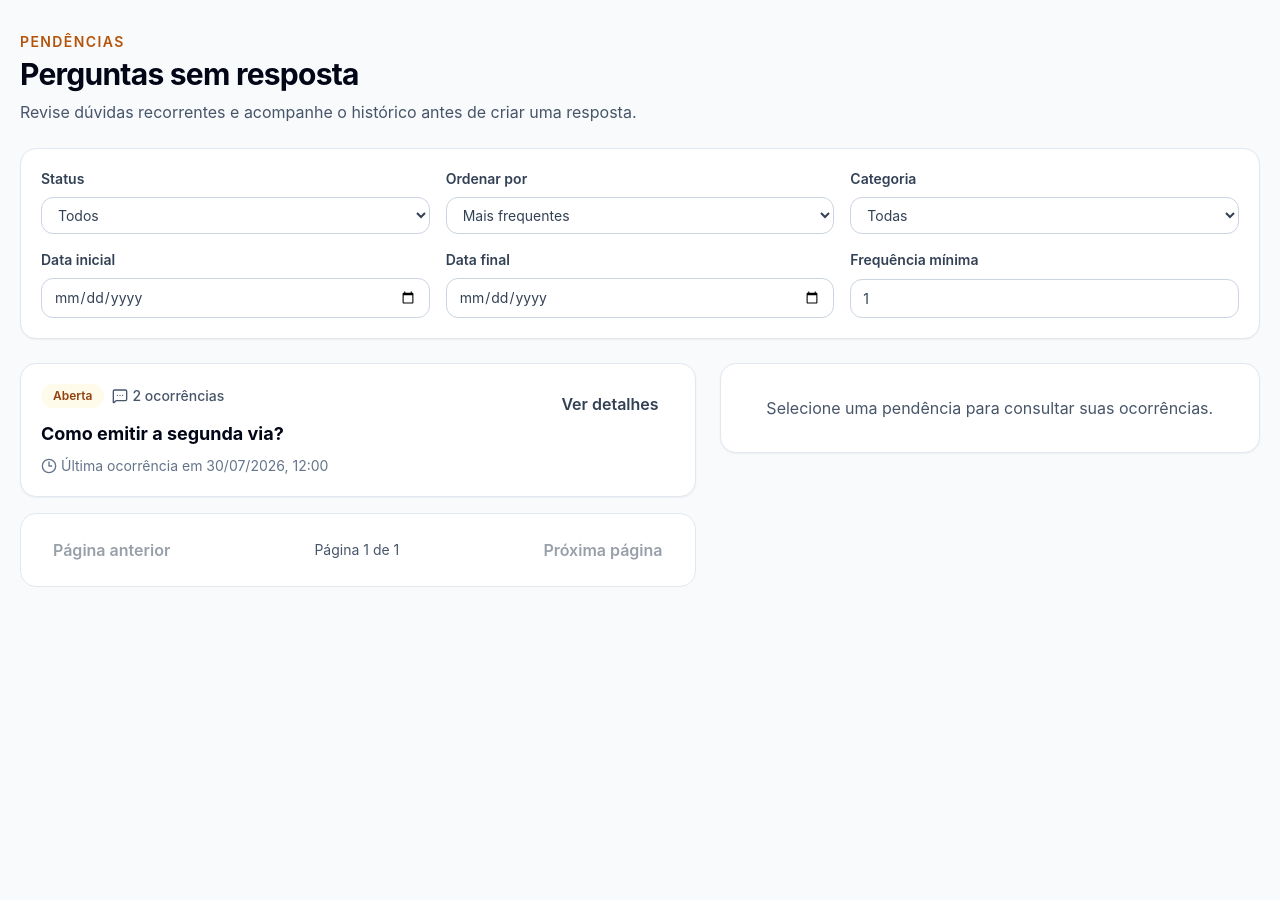
it: knowledge gap administration › filters the inbox and shows occurrence and audit details
Expected: the heading "Perguntas sem resposta" is shown, [20,56,359,92]
Expected: the text "2 ocorrências" is shown, [112,386,224,406]
Select "Abertas" in the dropdown labelled "Status". click: (235, 216)
box: [41,197,430,234]
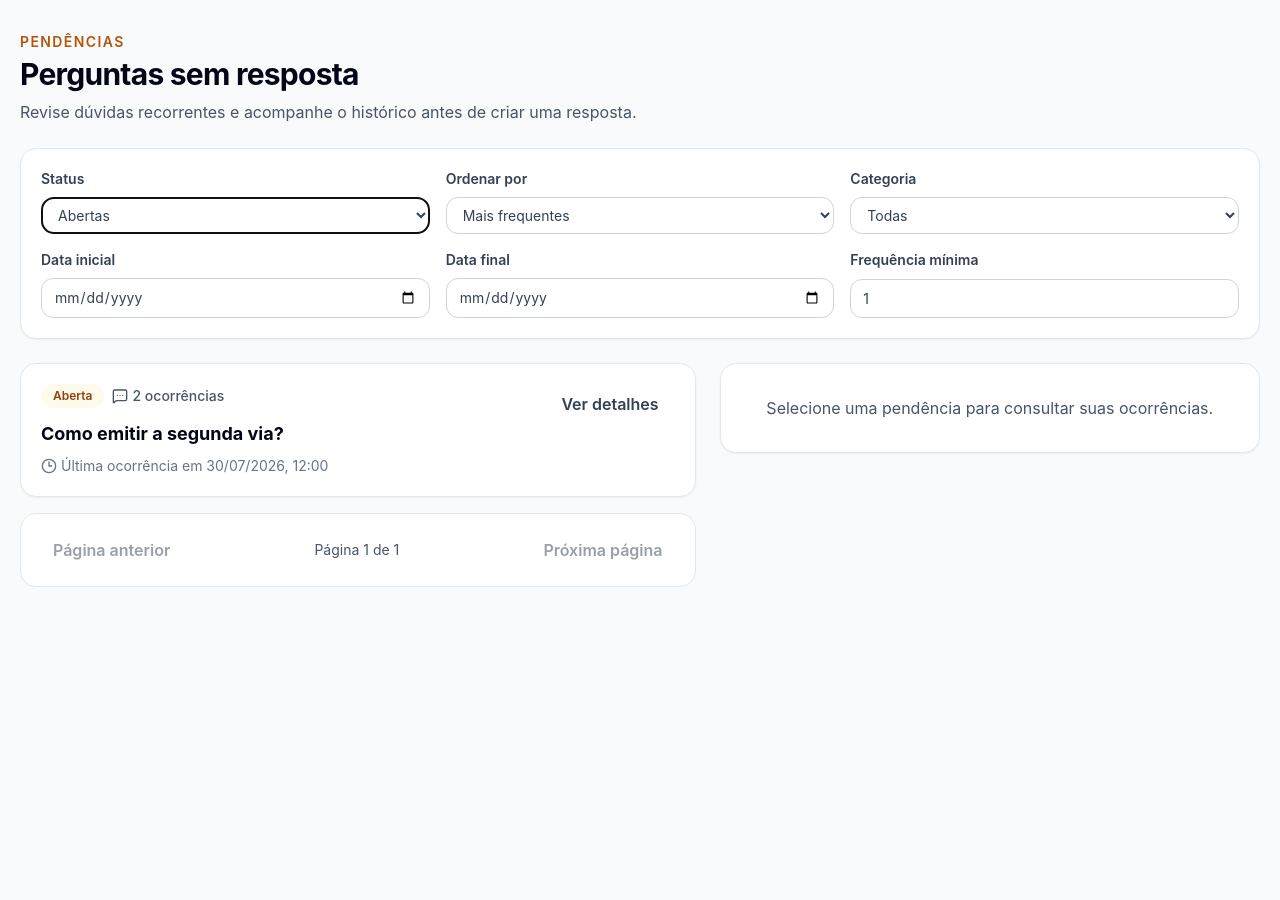
Click the button "Ver detalhes". click: (610, 404)
box: [545,384,675,424]
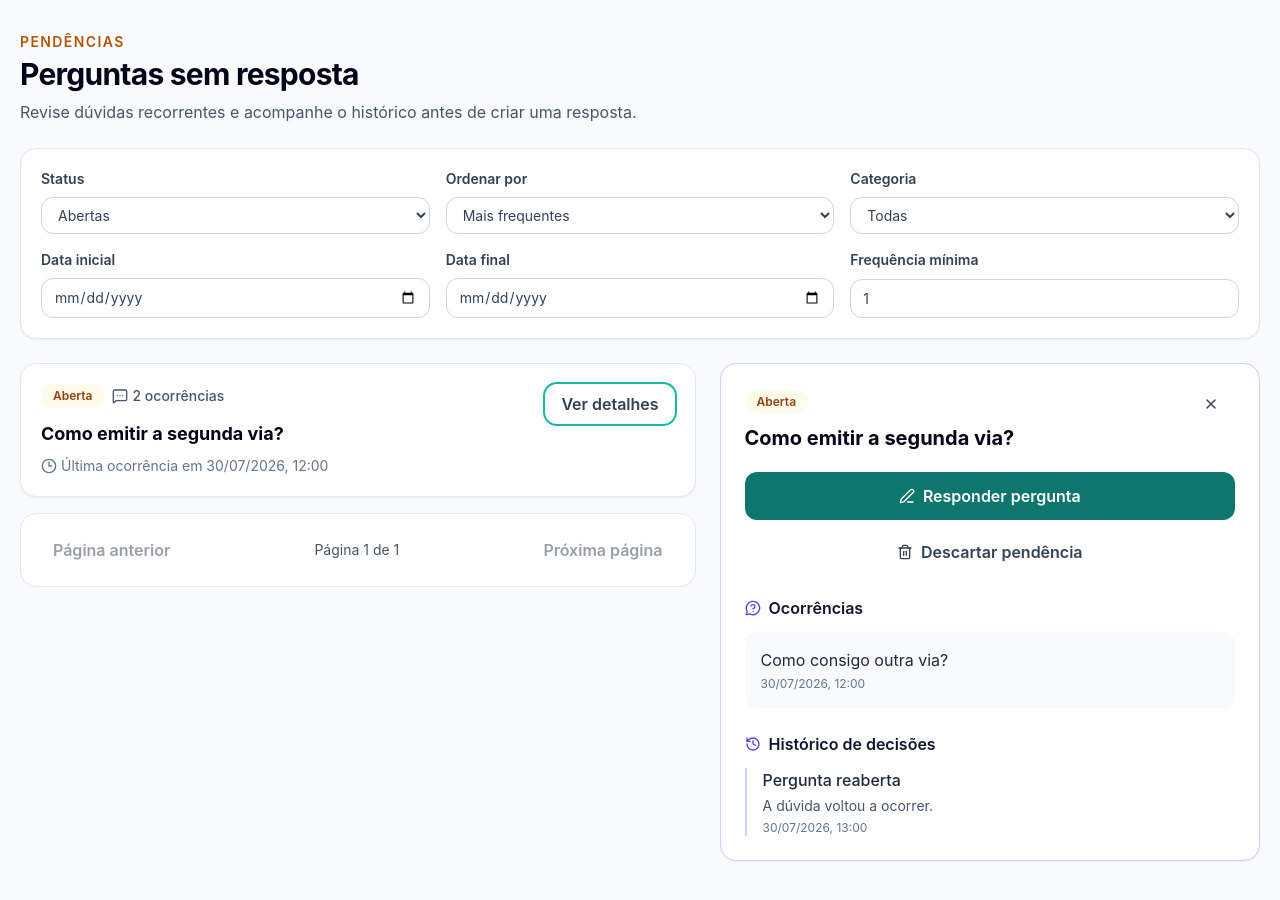
Expected: the text "Como consigo outra via?" is shown, [760,650,948,670]
Expected: the text "A dúvida voltou a ocorrer." is shown, [762,797,933,814]
